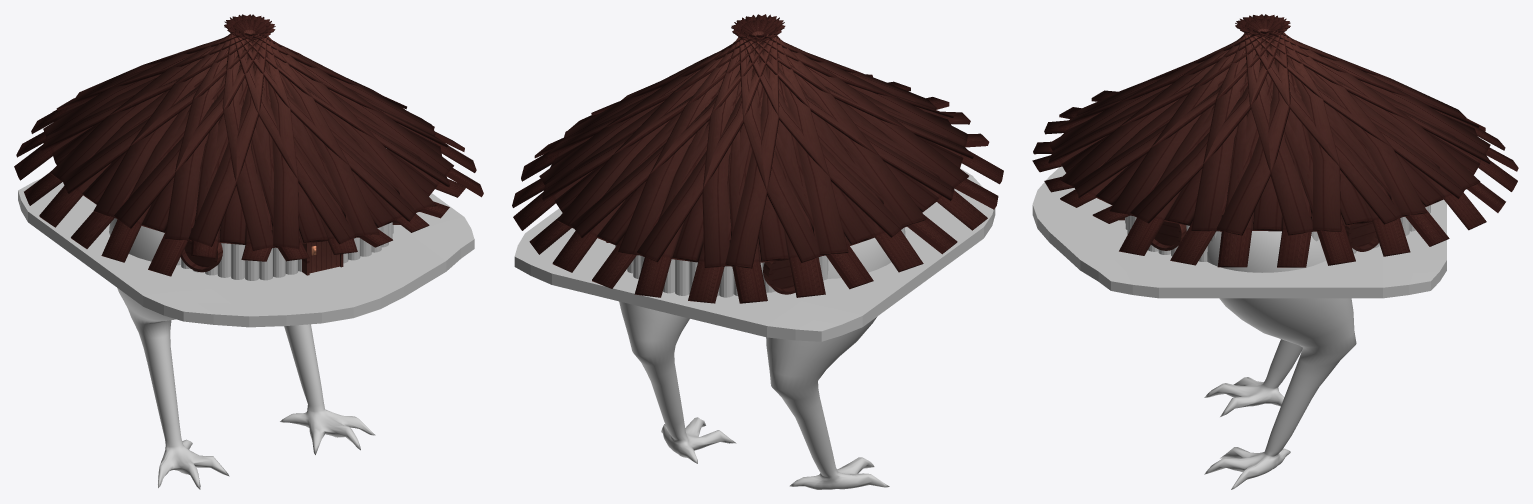
The model's file is chicken_house (2).fbx.
3 renders of one model, left to right at view 1: azimuth 30°, elevation 25°; view 2: azimuth 150°, elevation 25°; view 3: azimuth 270°, elevation 25°, orthographic. The views are drawn at different scales.
Parts seen in each view (by area): view 1: Sphere.001, Cylinder.002; view 2: Sphere.001, Cylinder.002; view 3: Sphere.001, Cylinder.002.
Part boxes in pixels (left/top/right/bottom): Sphere.001: left=14, top=14, right=483, bottom=489; Cylinder.002: left=180, top=221, right=400, bottom=275; Sphere.001: left=512, top=14, right=1003, bottom=489; Cylinder.002: left=606, top=241, right=795, bottom=294; Sphere.001: left=1032, top=14, right=1518, bottom=489; Cylinder.002: left=1119, top=218, right=1378, bottom=251.
Bounding box in the file's own units: 1525 × 1598 × 1699.
